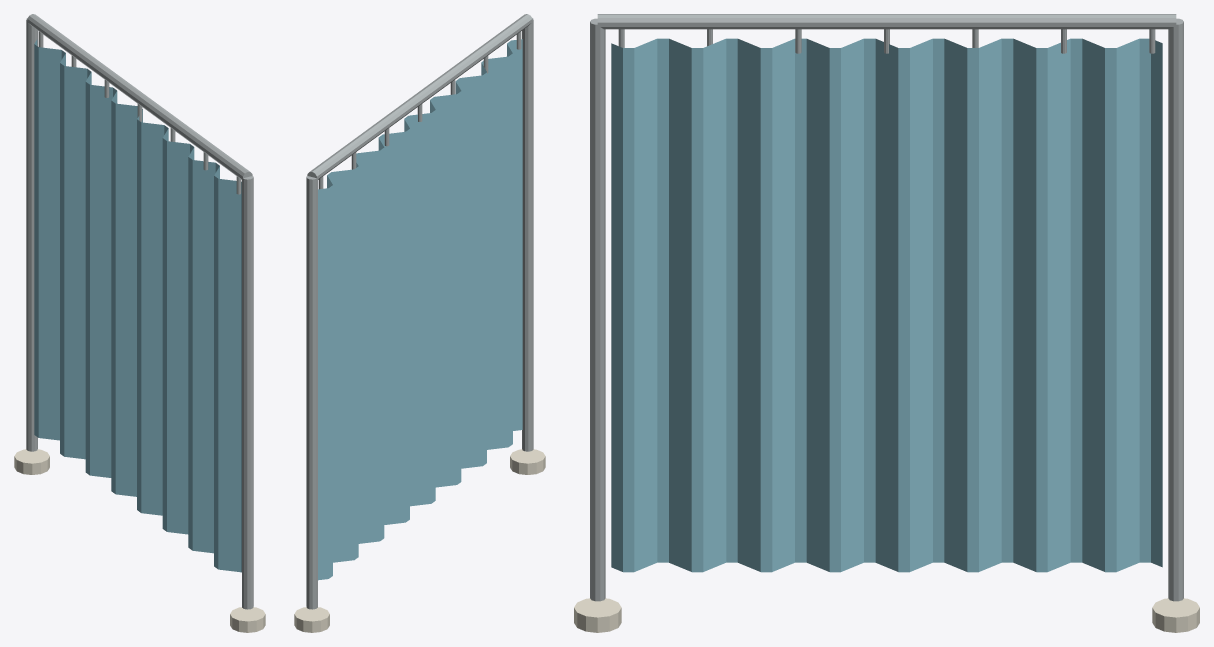
The model's file is PrivacyCurtain_standard.glb.
3 views of the same model, side by side, from view 1: azimuth 30°, elevation 25°; view 2: azimuth 150°, elevation 25°; view 3: azimuth 270°, elevation 25° (orthographic). The views are drawn at different scales.
Visible parts, largest first — view 1: Static_lightblue, Static_steel, Static_ivory; view 2: Static_lightblue, Static_steel, Static_ivory; view 3: Static_lightblue, Static_steel, Static_ivory.
Boxes of the visible parts, x1,y1,x2,y2 form: Static_lightblue: (34,39,241,572); Static_steel: (26,14,253,609); Static_ivory: (14,449,265,632); Static_lightblue: (318,39,522,580); Static_steel: (306,14,533,609); Static_ivory: (294,449,545,632); Static_lightblue: (611,38,1162,572); Static_steel: (590,14,1183,601); Static_ivory: (574,598,1199,632).
Bounding box in the file's own units: 0.14 × 1.97 × 1.84.
